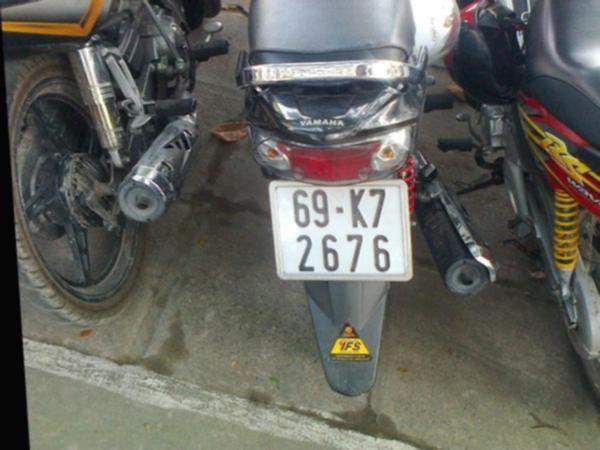License_Plate: (272, 182, 408, 278)
